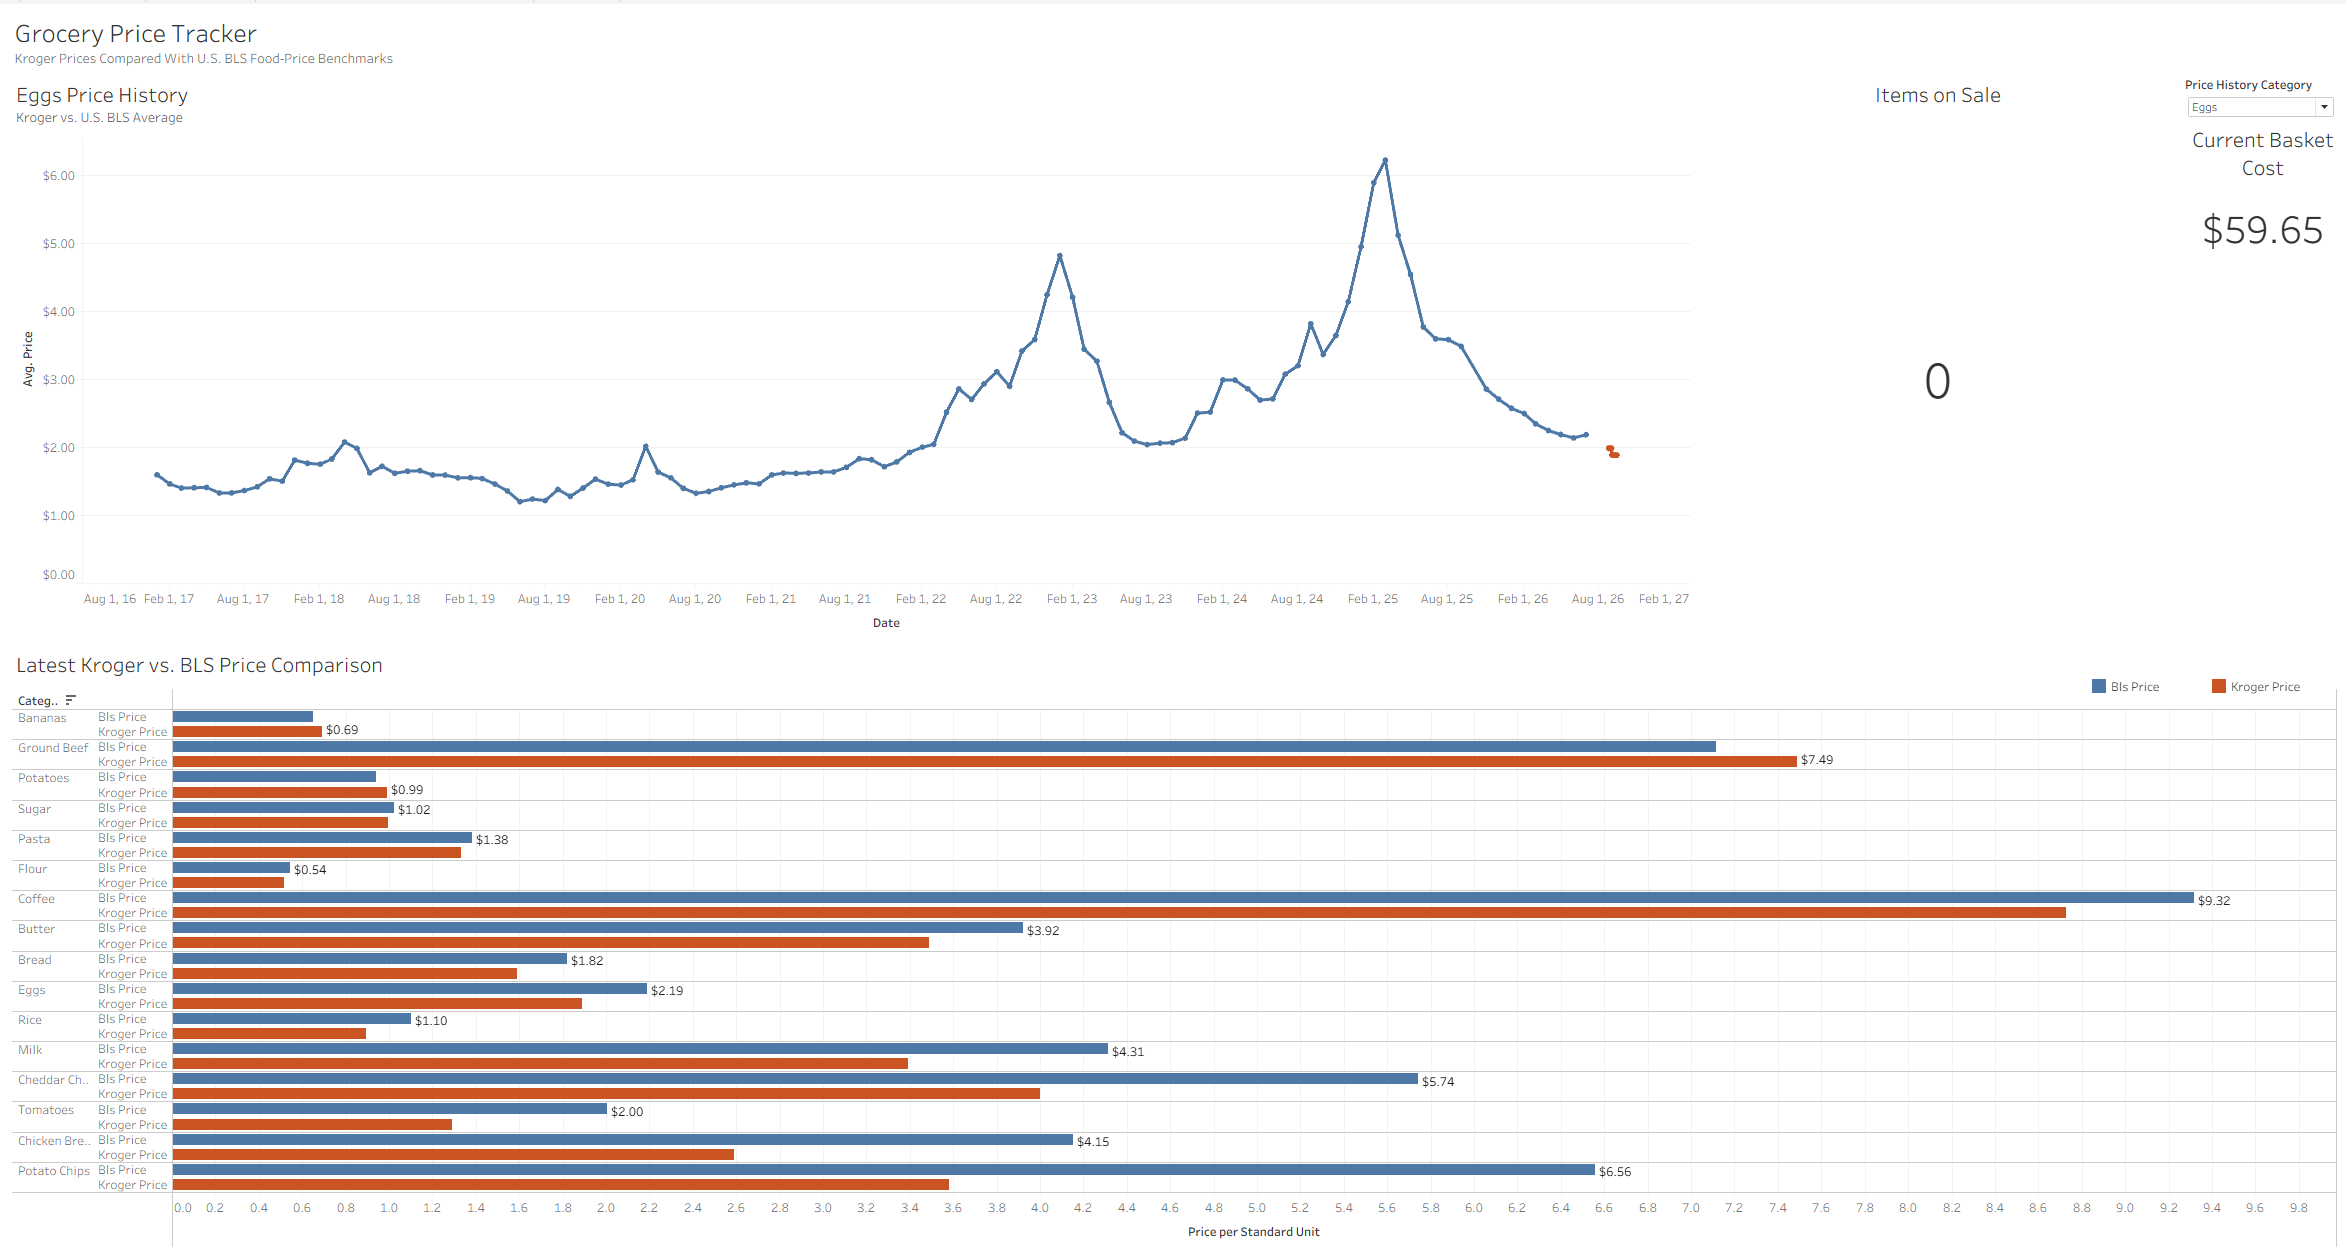

This screenshot's page, from the dashboard's own definition file:
{"tool":"tableau","page":{"name":"Grocery Price Tracker","canvas":[1000,1000],"units":"permille","ordinal":0},"visuals":[{"type":"title","box":[3.4,6.4,993.2,47.8]},{"type":"worksheet","title":"Price History","mark":"Automatic","rows":["price"],"cols":["date"],"box":[3.4,54.1,718.2,453.8]},{"type":"worksheet","title":"Items on Sale KPI","mark":"Automatic","box":[721.6,54.1,206.9,453.8]},{"type":"filter","title":"Price History","param":"[federated.1ami9af1ck2qw80zuwx790hvwzf6].[none:category:nk]","box":[928.5,54.1,68.1,41.4]},{"type":"worksheet","title":"Current Basket Cost","mark":"Automatic","box":[931.5,93.2,63.9,114.7]},{"type":"worksheet","title":"Latest Price Comparison","mark":"Automatic","rows":["category"],"box":[3.4,508,993.2,485.7]},{"type":"legend","title":"Latest Price Comparison","param":"[federated.0m654wy0amuxl317nkqpo1rigmpm].[:Measure Names]","box":[889.3,535,104.3,21.5]}]}

Visuals, with their boxes on the dashboard's canvas, which has no fixed pixel size, in thousandths of its width and height (x1, y1, x2, y2). These are canvas units, not pixel positions in the 2346x1260 screenshot, which may show the page scaled, cropped or inside an application window:
title: {"x1": 3, "y1": 6, "x2": 997, "y2": 54}
"Price History" worksheet: {"x1": 3, "y1": 54, "x2": 722, "y2": 508}
"Items on Sale KPI" worksheet: {"x1": 722, "y1": 54, "x2": 928, "y2": 508}
"Price History" filter: {"x1": 928, "y1": 54, "x2": 997, "y2": 96}
"Current Basket Cost" worksheet: {"x1": 932, "y1": 93, "x2": 995, "y2": 208}
"Latest Price Comparison" worksheet: {"x1": 3, "y1": 508, "x2": 997, "y2": 994}
"Latest Price Comparison" legend: {"x1": 889, "y1": 535, "x2": 994, "y2": 556}
